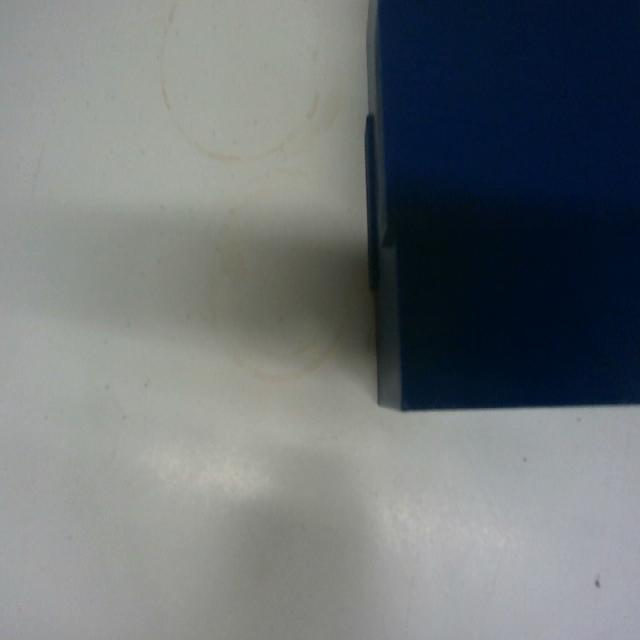Blue Cuboid: (362, 0, 639, 413)
